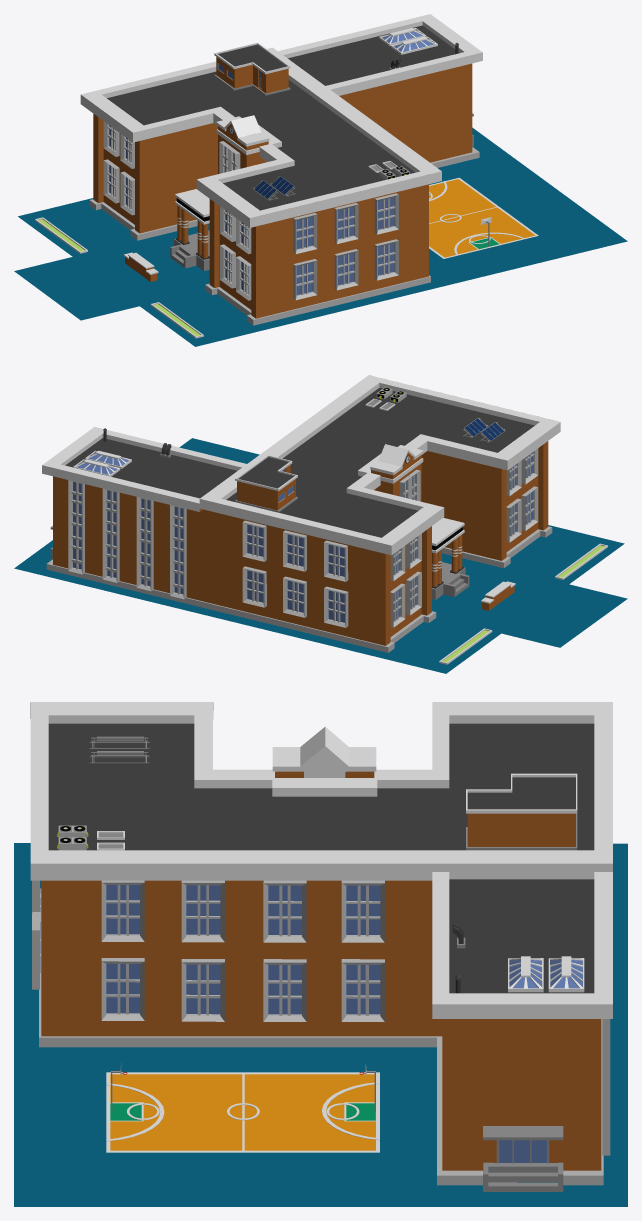
Rendered from school.fbx.
3 views of the same model, one above another, from view 1: azimuth 30°, elevation 25°; view 2: azimuth 150°, elevation 25°; view 3: azimuth 270°, elevation 25° (orthographic). The views are drawn at different scales.
Visible parts, largest first — view 1: Cube, Plane.028, Plane.031, Cube.001, Cube.008, Plane.002, Plane.029, Plane.030, Plane.001; view 2: Cube, Plane.028, Cube.001, Cube.008, Plane.030, Plane.029, Plane.002, Plane.001; view 3: Cube, Plane.028, Plane.031, Cube.008, Cube.001, Cube.005, Plane.001, Plane.002.
Boxes of the visible parts, left/top/right/bottom form: Cube: left=80, top=14, right=482, bottom=325; Plane.028: left=14, top=127, right=627, bottom=346; Plane.031: left=429, top=177, right=538, bottom=258; Cube.001: left=174, top=115, right=269, bottom=270; Cube.008: left=214, top=42, right=290, bottom=95; Plane.002: left=391, top=36, right=437, bottom=54; Plane.029: left=150, top=302, right=203, bottom=338; Plane.030: left=35, top=217, right=87, bottom=253; Plane.001: left=379, top=28, right=426, bottom=46; Cube: left=42, top=375, right=560, bottom=652; Plane.028: left=14, top=438, right=627, bottom=673; Cube.001: left=370, top=444, right=465, bottom=599; Cube.008: left=235, top=455, right=297, bottom=512; Plane.030: left=439, top=628, right=492, bottom=664; Plane.029: left=555, top=543, right=607, bottom=579; Plane.002: left=85, top=450, right=131, bottom=468; Plane.001: left=73, top=459, right=120, bottom=476; Cube: left=30, top=702, right=612, bottom=1185; Plane.028: left=14, top=843, right=627, bottom=1206; Plane.031: left=106, top=1072, right=379, bottom=1152; Cube.008: left=466, top=773, right=577, bottom=850; Cube.001: left=272, top=726, right=376, bottom=777; Cube.005: left=488, top=1162, right=558, bottom=1191; Plane.001: left=548, top=956, right=584, bottom=992; Plane.002: left=508, top=956, right=543, bottom=992.
Bounding box in the file's own units: 91100 × 22969 × 57219.
